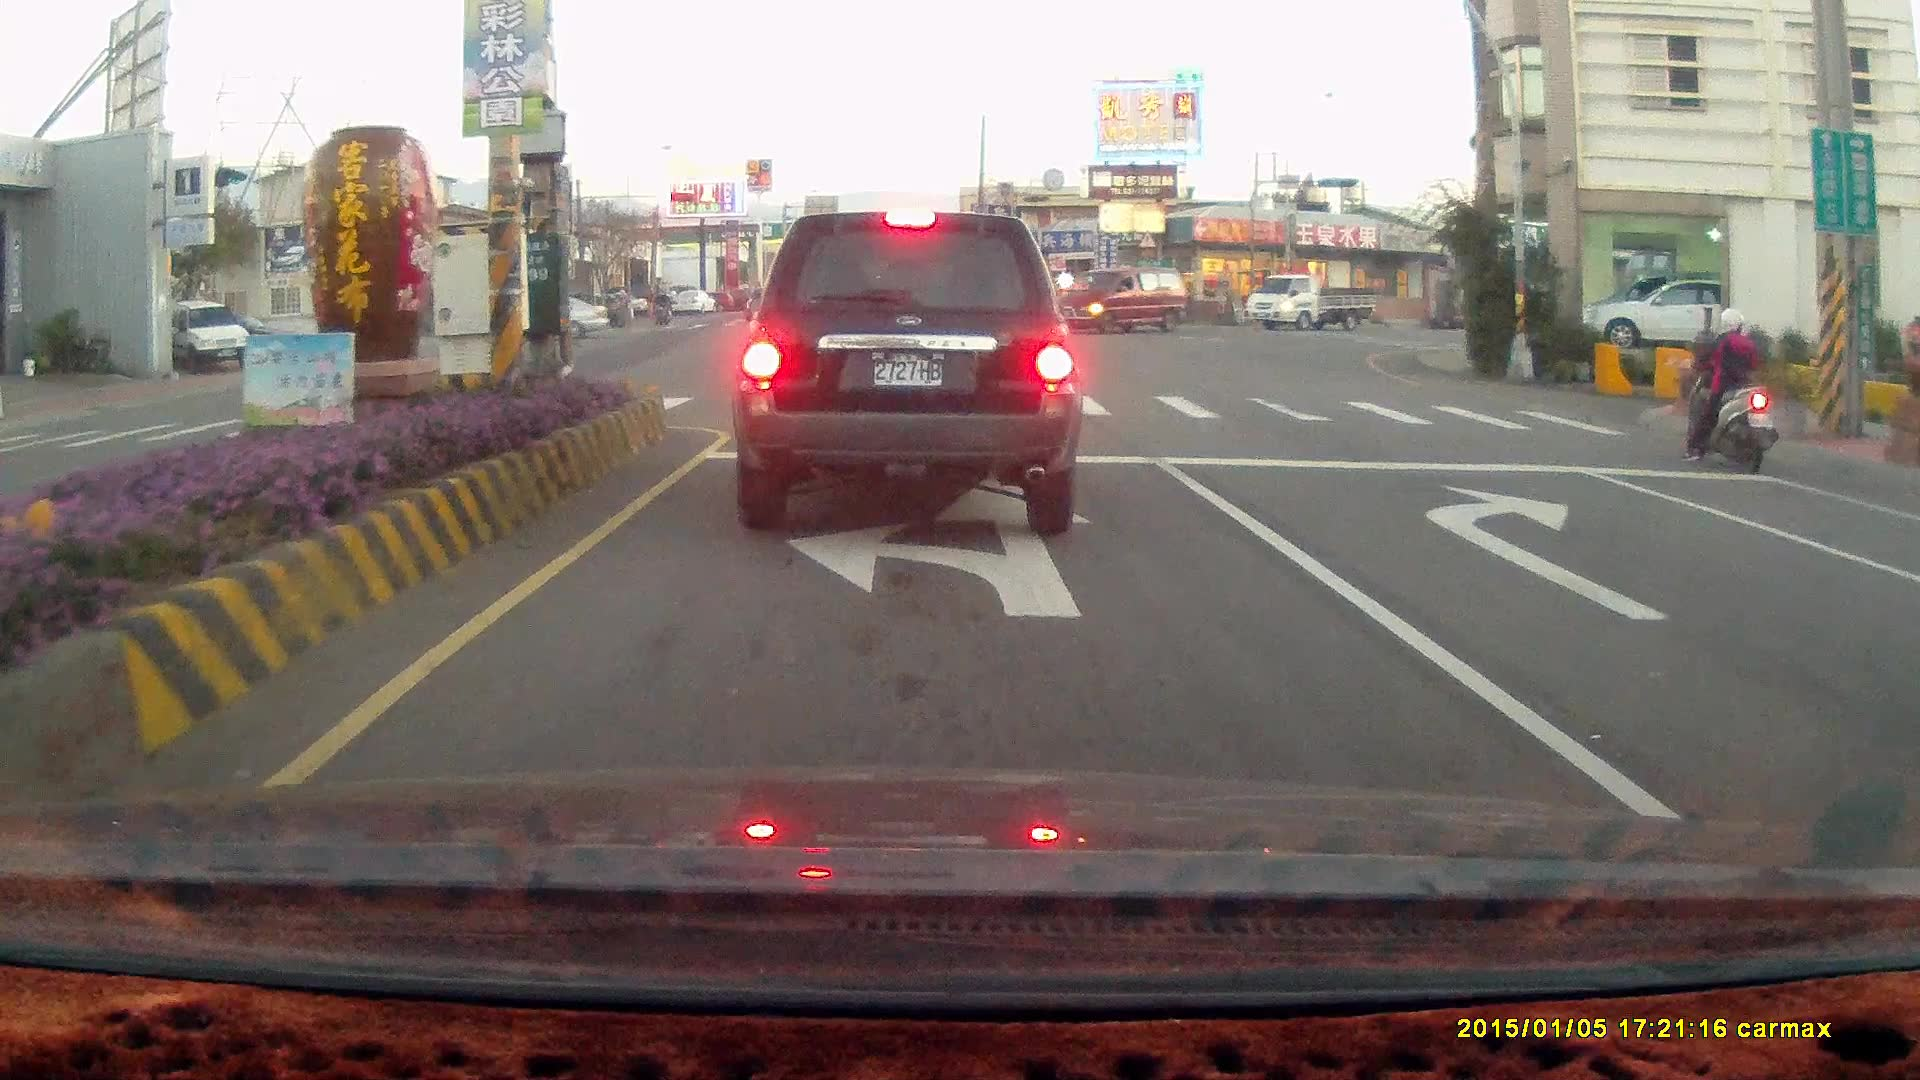rider: (1683, 308, 1779, 475), (607, 285, 635, 325), (654, 289, 675, 326)
vehicle: (730, 209, 1084, 537), (1570, 273, 1769, 350), (1588, 280, 1721, 349), (1056, 268, 1189, 336), (1245, 274, 1380, 337), (1896, 493, 1920, 836), (149, 296, 251, 374), (1883, 528, 1920, 690), (490, 290, 609, 339), (481, 295, 609, 339)
